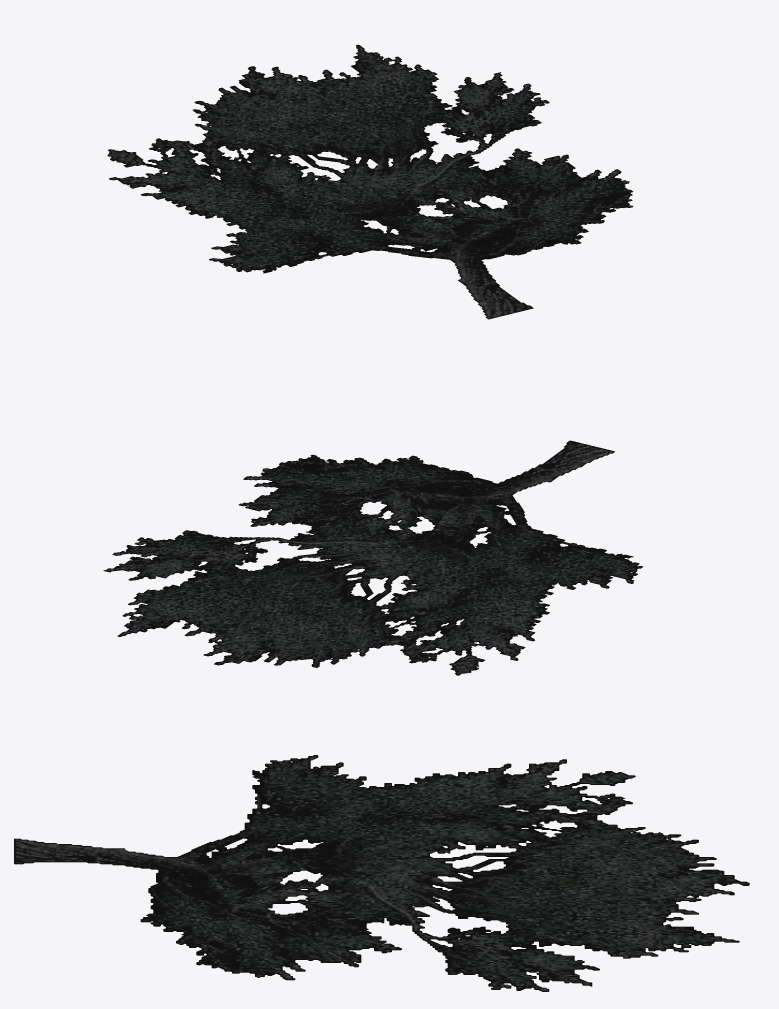
File: SM_EC_Tree_Card_06.fbx
The picture shows the model from 3 angles, top to bottom: view 1: azimuth 30°, elevation 25°; view 2: azimuth 150°, elevation 25°; view 3: azimuth 270°, elevation 25°; orthographic projection. The views are drawn at different scales.
Parts seen in each view (by area): view 1: SM_EC_Tree_Card_06; view 2: SM_EC_Tree_Card_06; view 3: SM_EC_Tree_Card_06.
Part boxes in pixels (x1,y1,x2,y2): SM_EC_Tree_Card_06: (107, 44, 633, 319); SM_EC_Tree_Card_06: (103, 440, 642, 675); SM_EC_Tree_Card_06: (14, 755, 749, 991).
Bounding box in the file's own units: 3.5 × 4.62 × 0.
